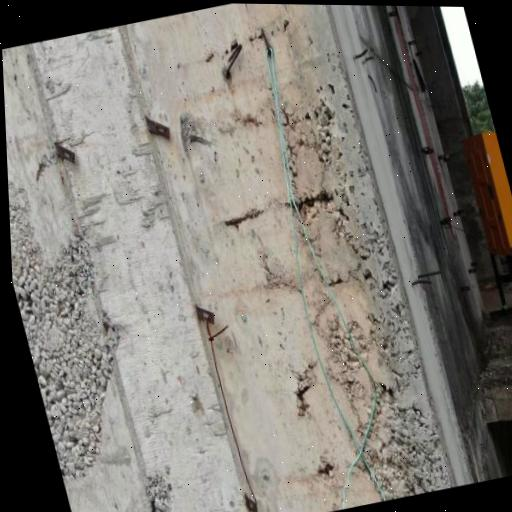exposed_rebar: (224, 209, 262, 229), (223, 39, 242, 79), (257, 28, 271, 55), (295, 386, 308, 395)
